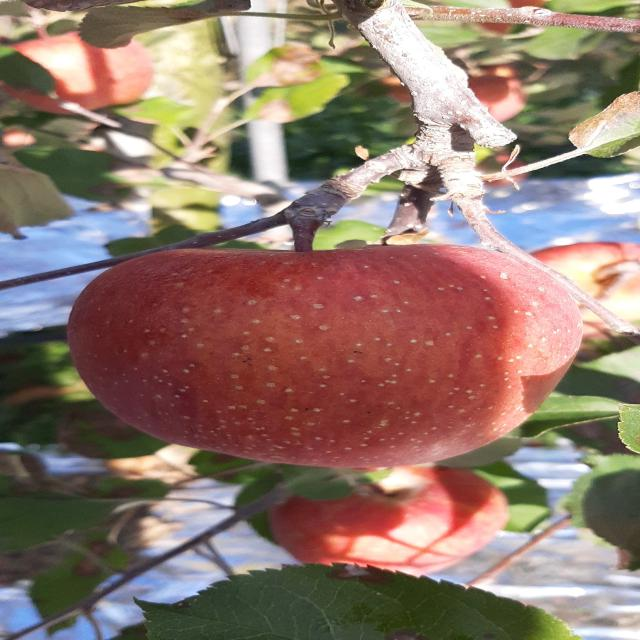fresh: (57, 241, 606, 476)
